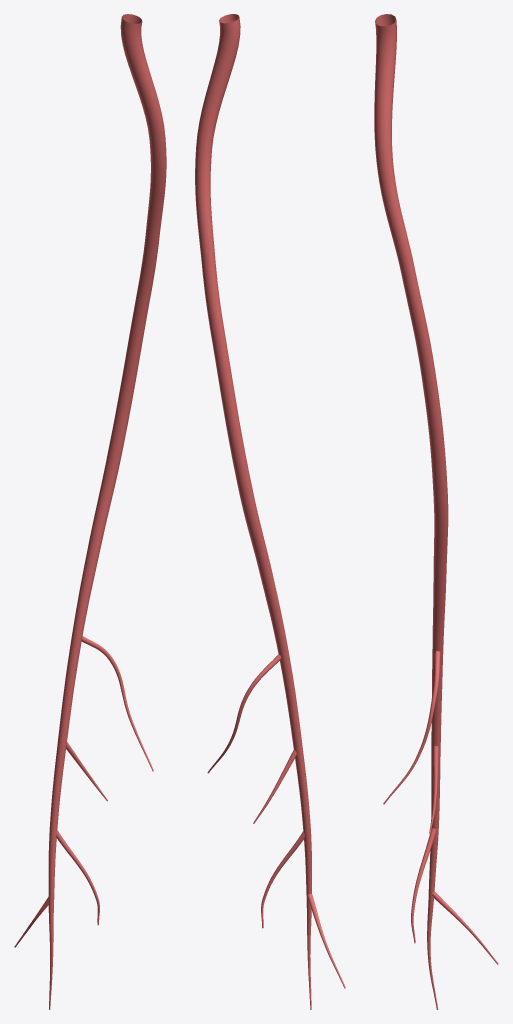
File: Fibular_artery.l_BezierCurve.173.glb
The picture shows the model from 3 angles, left to right: view 1: azimuth 30°, elevation 25°; view 2: azimuth 210°, elevation 25°; view 3: azimuth 270°, elevation 25°; orthographic projection. The views are drawn at different scales.
Parts seen in each view (by area): view 1: Fibular_artery.l_BezierCurve.173; view 2: Fibular_artery.l_BezierCurve.173; view 3: Fibular_artery.l_BezierCurve.173.
Part boxes in pixels (x1=…): Fibular_artery.l_BezierCurve.173: x1=14, y1=14, x2=166, y2=1009; Fibular_artery.l_BezierCurve.173: x1=195, y1=14, x2=345, y2=1009; Fibular_artery.l_BezierCurve.173: x1=374, y1=14, x2=498, y2=1009.
Size of the model in its own units: 0.0329 by 0.3117 by 0.0345.
